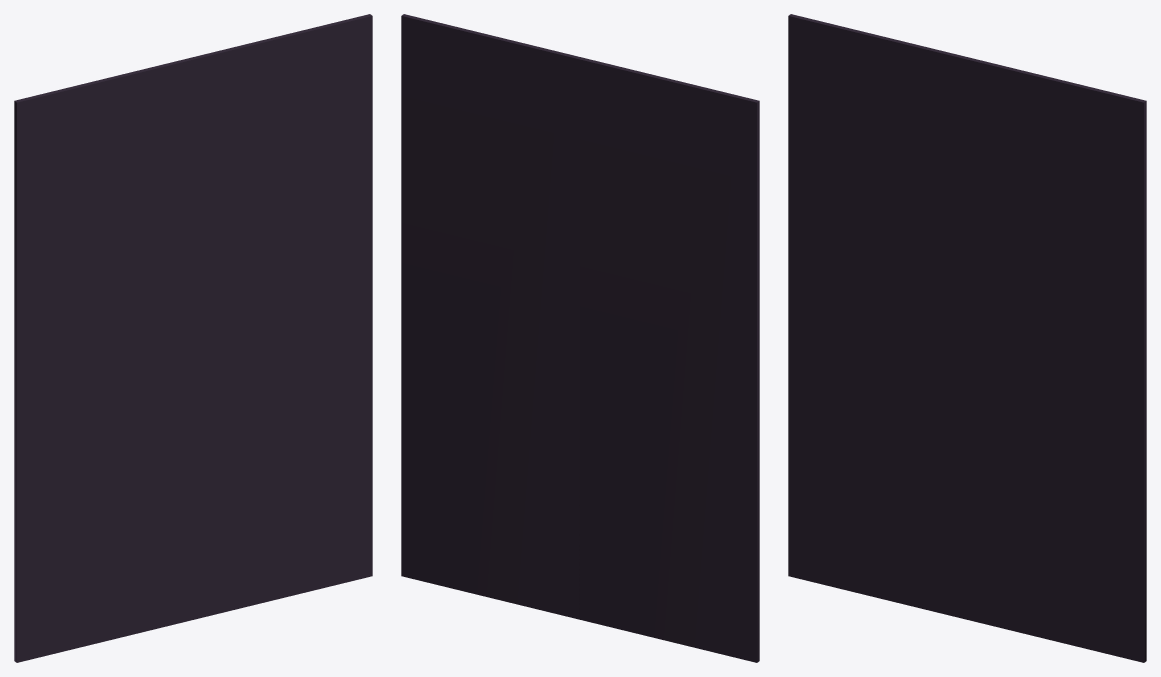
Rendered from Wall_x2.fbx.
3 views of the same model, side by side, from view 1: azimuth 30°, elevation 25°; view 2: azimuth 150°, elevation 25°; view 3: azimuth 330°, elevation 25° (orthographic).
Parts seen in each view (by area): view 1: pCube3; view 2: pCube3; view 3: pCube3.
Boxes of the visible parts, box(x1,y1,x2,y2) form: pCube3: box(14, 14, 372, 662); pCube3: box(401, 14, 759, 662); pCube3: box(788, 14, 1146, 662).
Bounding box in the file's own units: 1.99 × 3 × 0.025.
Materials: 1 (1 with a texture image).
